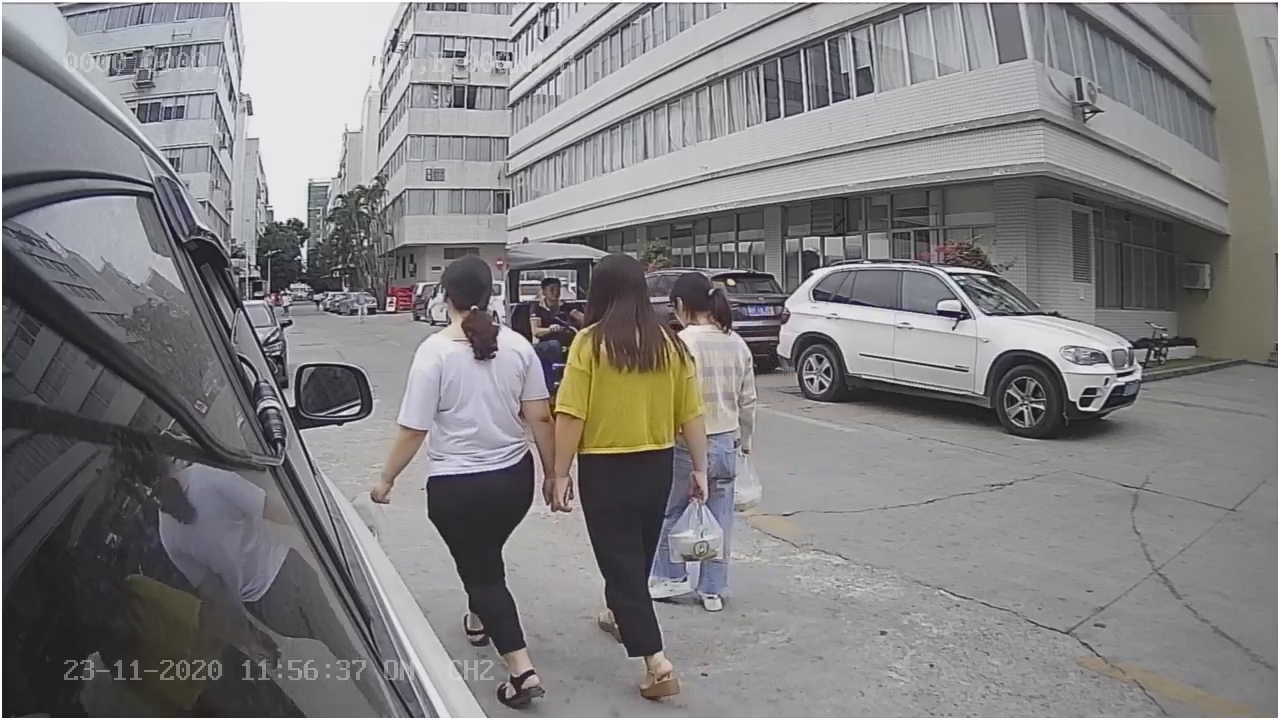person: (349, 246, 562, 713), (541, 251, 712, 707)
